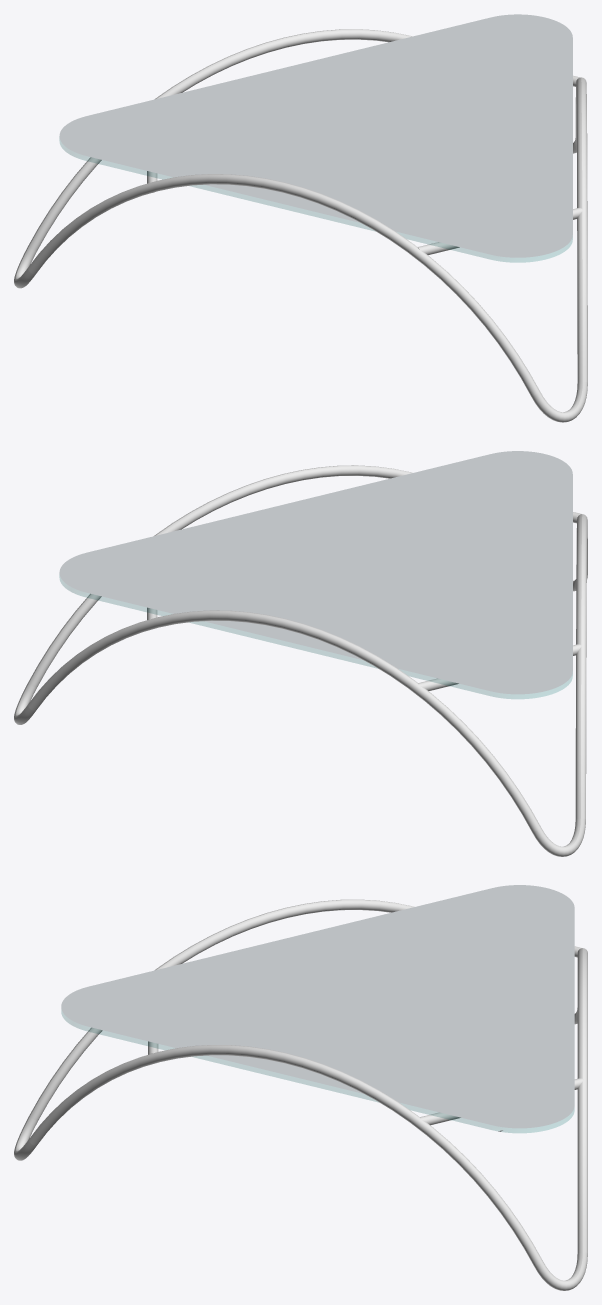
The model's file is DeepWave1_transmission_mv.glb.
3 views of the same model, one above another, from view 1: azimuth 30°, elevation 25°; view 2: azimuth 150°, elevation 25°; view 3: azimuth 270°, elevation 25° (orthographic).
Visible parts, largest first — view 1: RayCoffeeTable_Top.001, RayCoffeeTable_Leg, RayCoffeeTable_Top; view 2: RayCoffeeTable_Top.001, RayCoffeeTable_Leg, RayCoffeeTable_Top; view 3: RayCoffeeTable_Top.001, RayCoffeeTable_Leg, RayCoffeeTable_Top.
Boxes of the visible parts, box(x1,y1,x2,y2) form: RayCoffeeTable_Top.001: box(59, 14, 572, 257); RayCoffeeTable_Leg: box(14, 29, 587, 422); RayCoffeeTable_Top: box(59, 139, 572, 262); RayCoffeeTable_Top.001: box(59, 451, 572, 694); RayCoffeeTable_Leg: box(14, 465, 587, 856); RayCoffeeTable_Top: box(59, 576, 572, 698); RayCoffeeTable_Top.001: box(61, 885, 574, 1131); RayCoffeeTable_Leg: box(14, 899, 587, 1290); RayCoffeeTable_Top: box(61, 1010, 574, 1132).
Bounding box in the file's own units: 1.18 × 0.3541 × 1.04.
